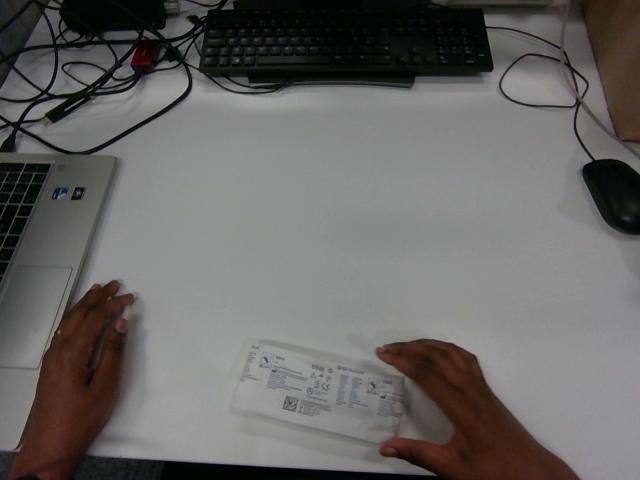syringe: (234, 343, 404, 442)
